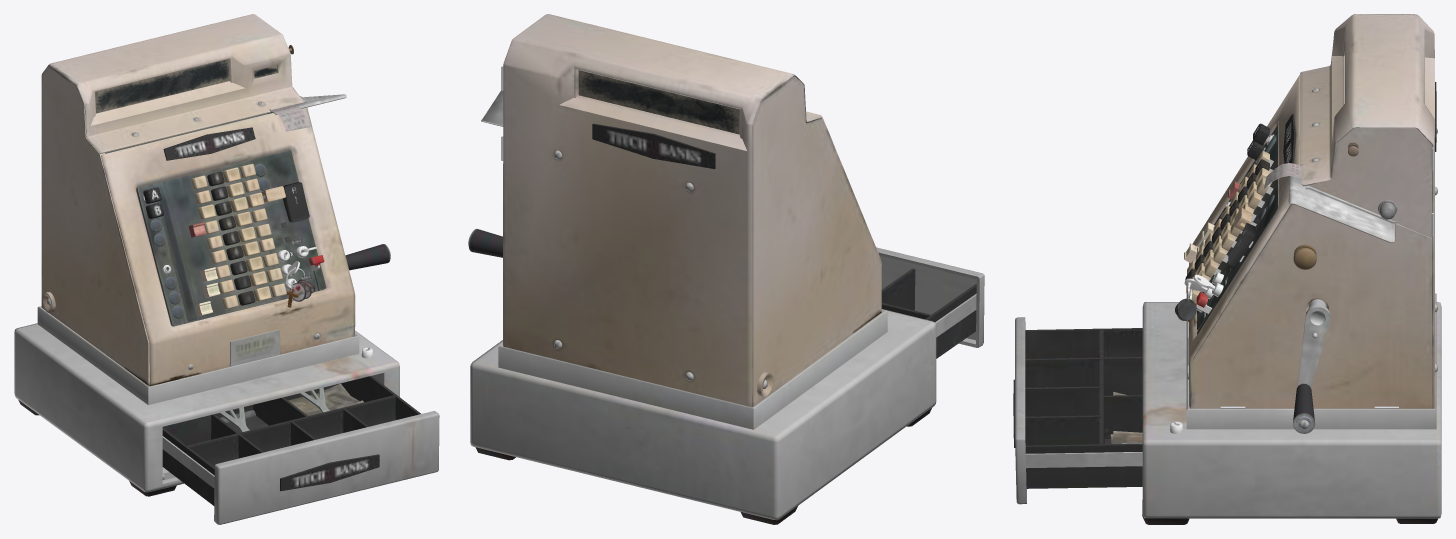
The model's file is ph_CashRegister_01.glb.
3 views of the same model, side by side, from view 1: azimuth 30°, elevation 25°; view 2: azimuth 150°, elevation 25°; view 3: azimuth 270°, elevation 25° (orthographic). The views are drawn at different scales.
Parts seen in each view (by area): view 1: CashRegister_01_body; view 2: CashRegister_01_body; view 3: CashRegister_01_body.
Boxes of the visible parts, x1,y1,x2,y2 form: CashRegister_01_body: (14, 14, 439, 524); CashRegister_01_body: (468, 14, 984, 524); CashRegister_01_body: (1013, 14, 1441, 524).
Bounding box in the file's own units: 0.6005 × 0.6213 × 0.6242.
2 materials, 2 textured.
